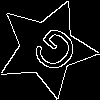G: (21, 23, 82, 84)
